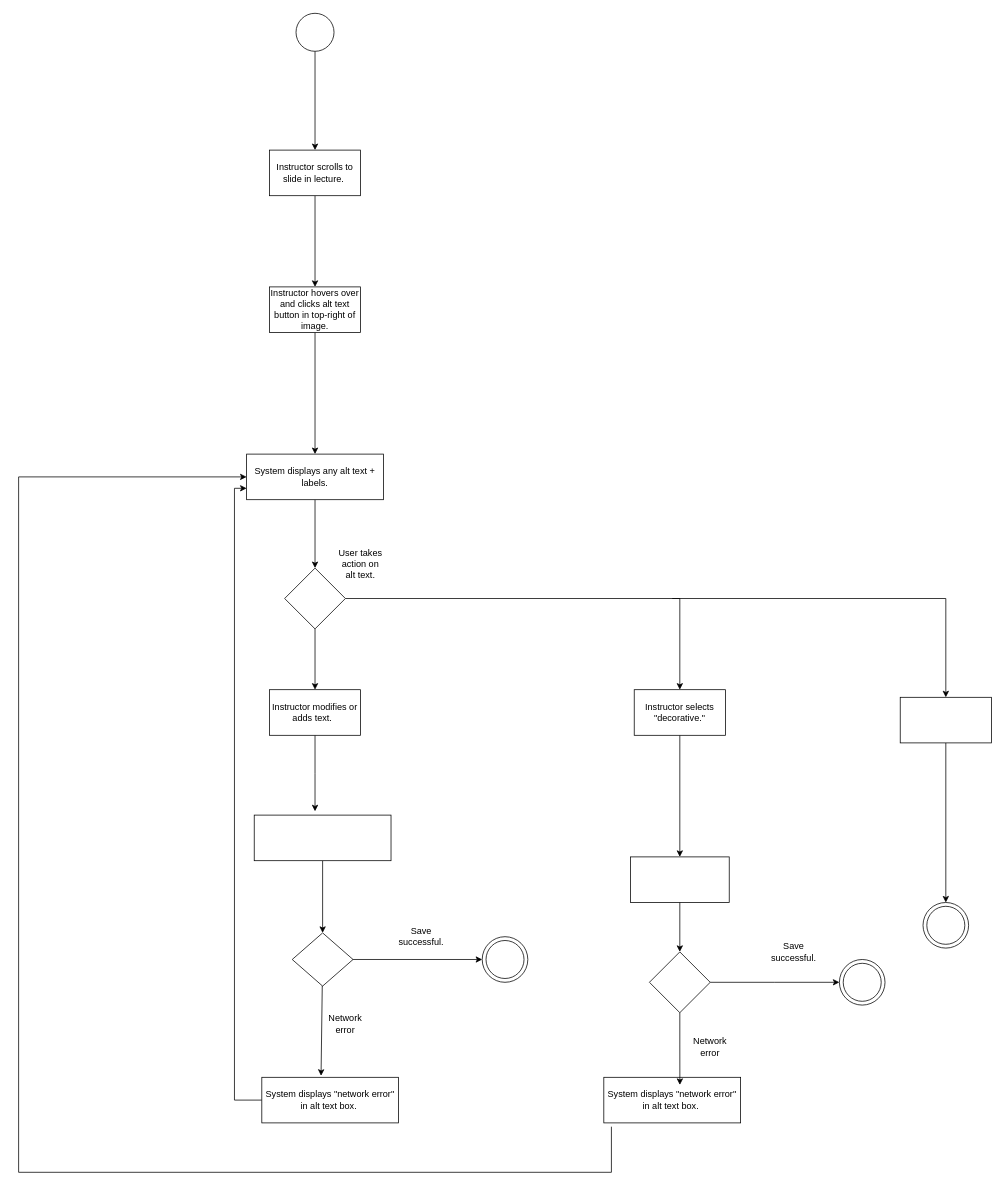
Some shapes in this 1005 by 1192 pixel diagram are drawn without their labels. The centre of each missing label's shape, as x and y in pixels:
Instructor exits alt text pop-up.: point 945,720
System marks text as "decorative.": point 679,879
System modifies alt text (with length cutoff) and AI-generated label.: point 322,837
